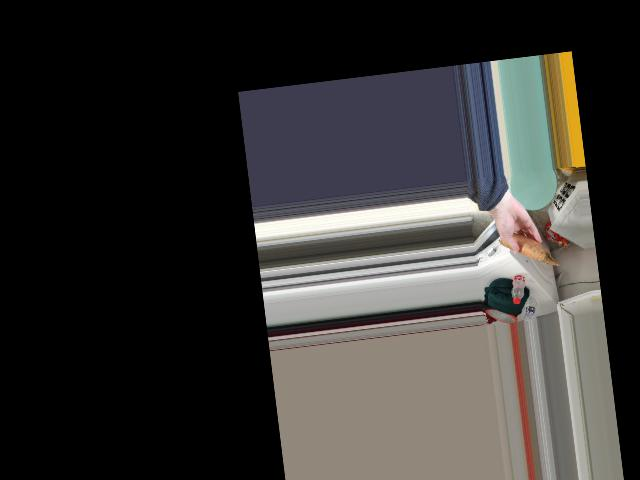sweet_potato: (504, 233, 543, 262)
